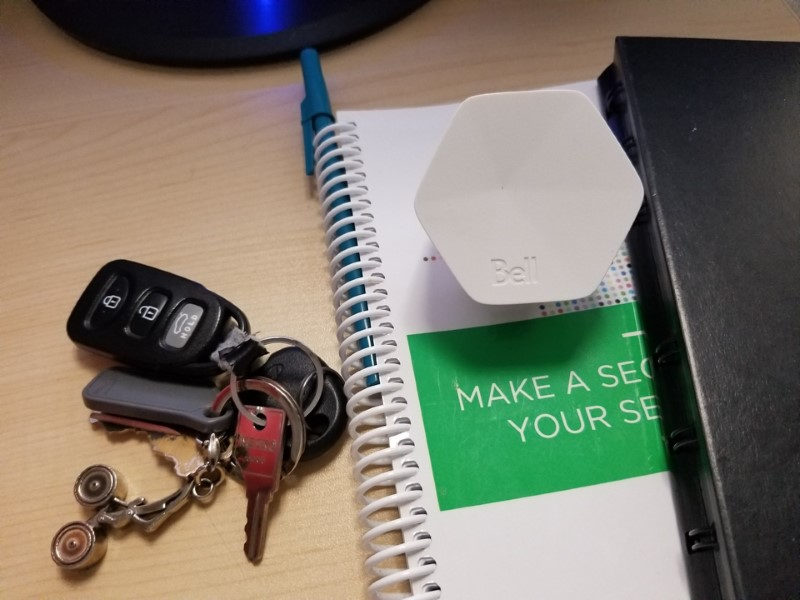pod: (412, 84, 647, 309)
